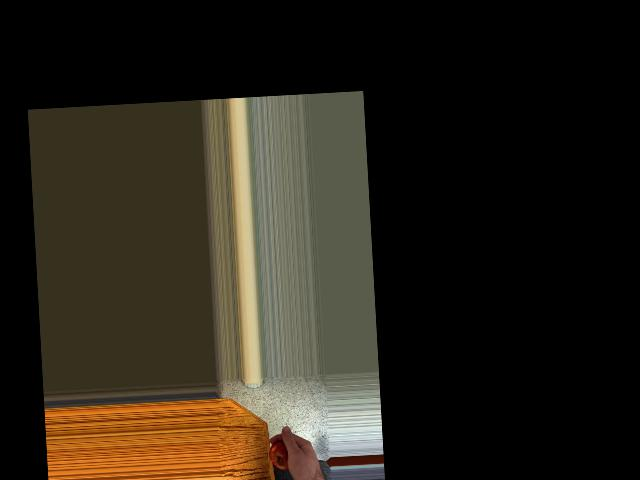apple: (267, 438, 295, 471)
